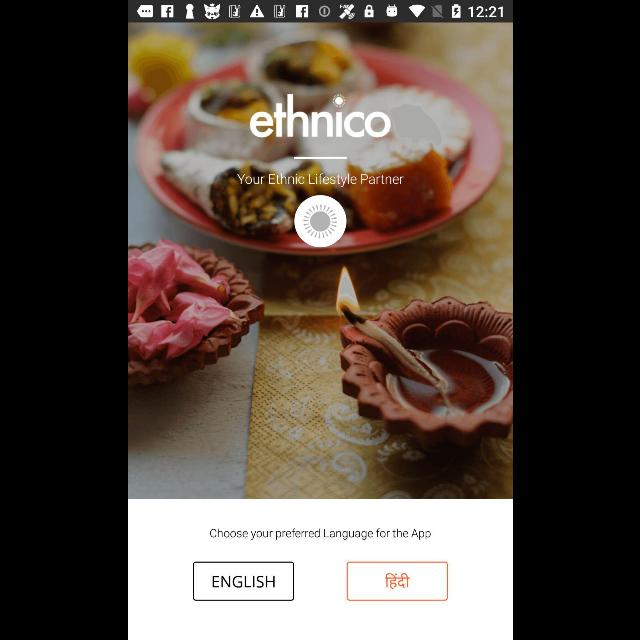image: (128, 24, 512, 498), (250, 94, 390, 138), (292, 196, 346, 248)
text: (210, 528, 430, 540), (236, 173, 404, 187)
textbutton: (192, 562, 294, 600), (347, 562, 448, 600)
uppertaskbar: (128, 1, 512, 23)
